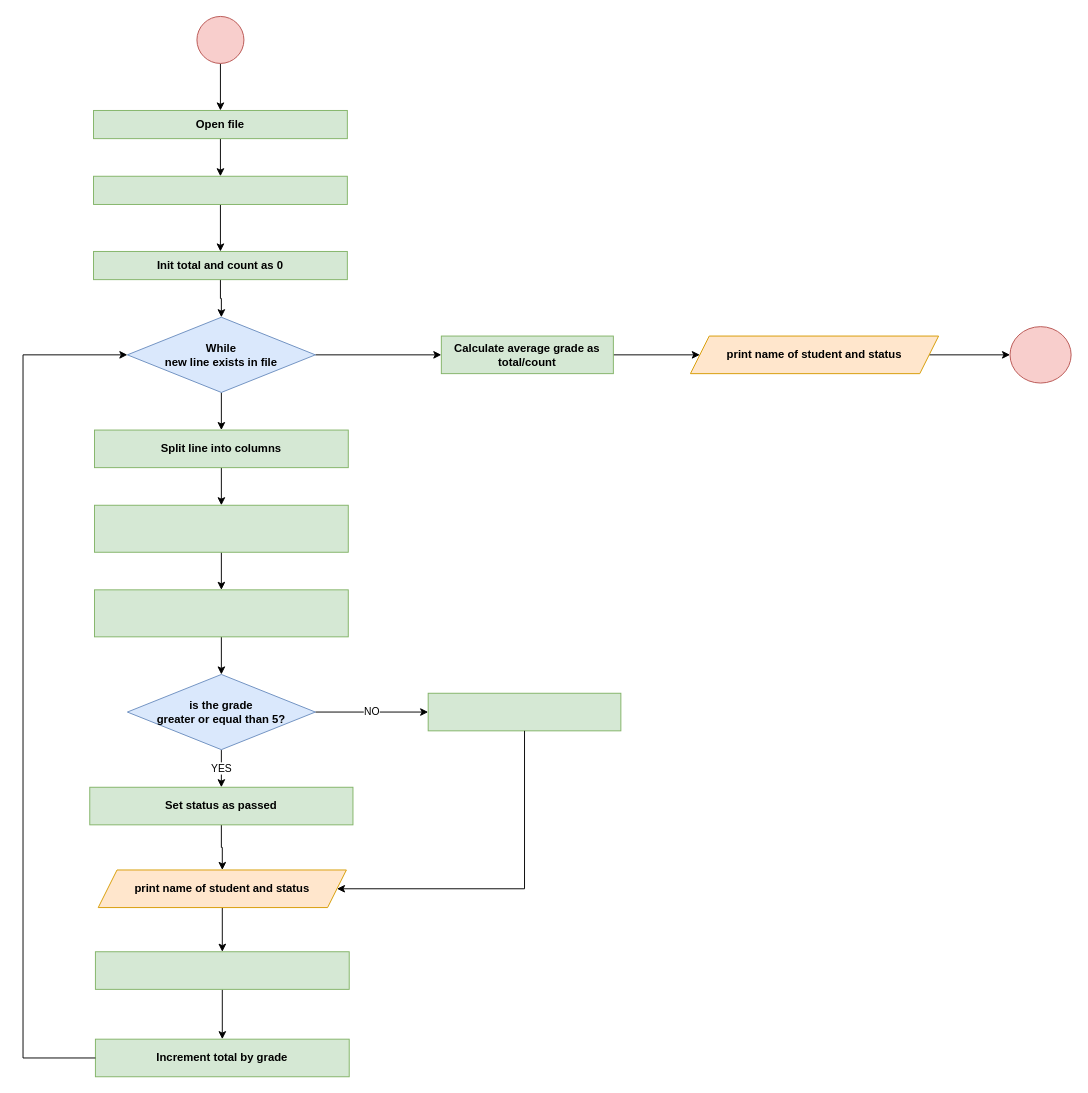
The diagram is 1088 pixels wide and 1093 high, and some of its shapes have lost their labels. The centre of each missing label's shape, as x and y in pixels:
"increment count by 1" goes at point 221,970.
"Read new line" goes at point 220,189.
"Set status as failed" goes at point 524,711.
"Set the grade of the student as the value of the third column" goes at point 221,613.
"Set the name of the student as the value of the second column" goes at point 221,528.
